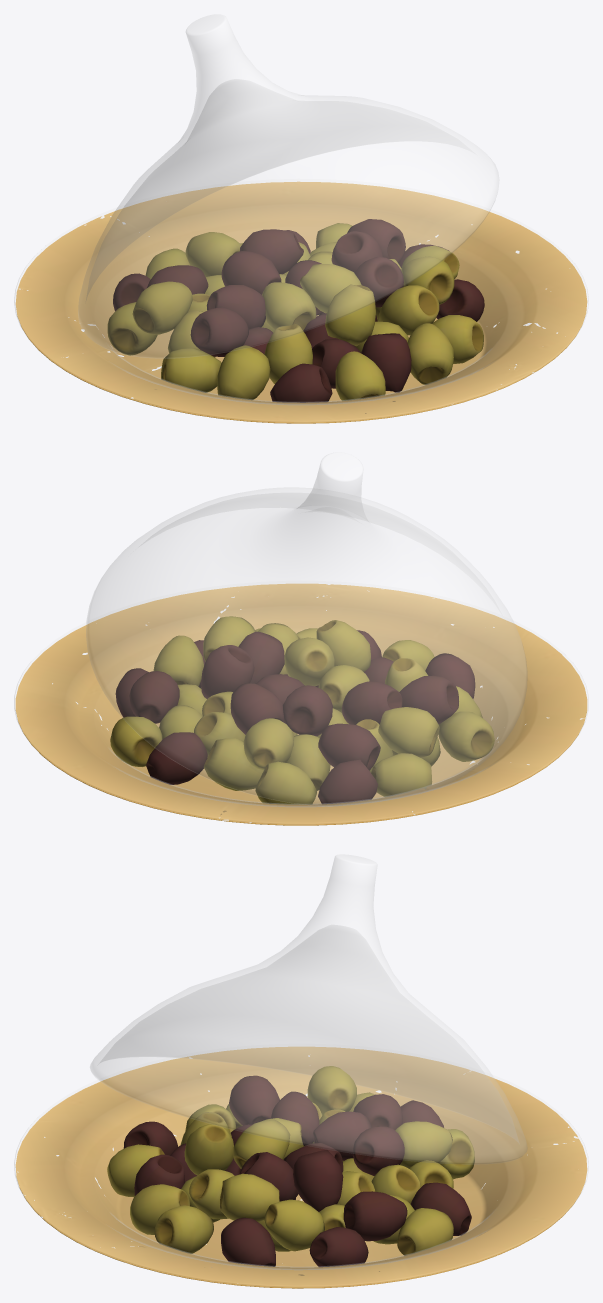
File: olives.glb
The picture shows the model from 3 angles, top to bottom: view 1: azimuth 30°, elevation 25°; view 2: azimuth 150°, elevation 25°; view 3: azimuth 270°, elevation 25°; orthographic projection.
Parts seen in each view (by area): view 1: glassCover, goldLeaf, glassDish, olives; view 2: glassCover, glassDish, goldLeaf, olives; view 3: glassCover, goldLeaf, olives, glassDish.
Part boxes in pixels (x1=…): glassCover: x1=78, y1=14, x2=499, y2=358; goldLeaf: x1=15, y1=181, x2=587, y2=423; glassDish: x1=14, y1=179, x2=588, y2=422; olives: x1=107, y1=219, x2=484, y2=402; glassCover: x1=86, y1=452, x2=527, y2=805; glassDish: x1=14, y1=581, x2=588, y2=824; goldLeaf: x1=15, y1=583, x2=587, y2=825; olives: x1=110, y1=616, x2=494, y2=804; glassCover: x1=90, y1=854, x2=527, y2=1164; goldLeaf: x1=15, y1=1047, x2=587, y2=1288; olives: x1=107, y1=1066, x2=474, y2=1267; glassDish: x1=14, y1=1057, x2=588, y2=1287.
Bounding box in the file's own units: 0.4593 × 0.2855 × 0.4593.
Materials: 4 (2 with a texture image).
